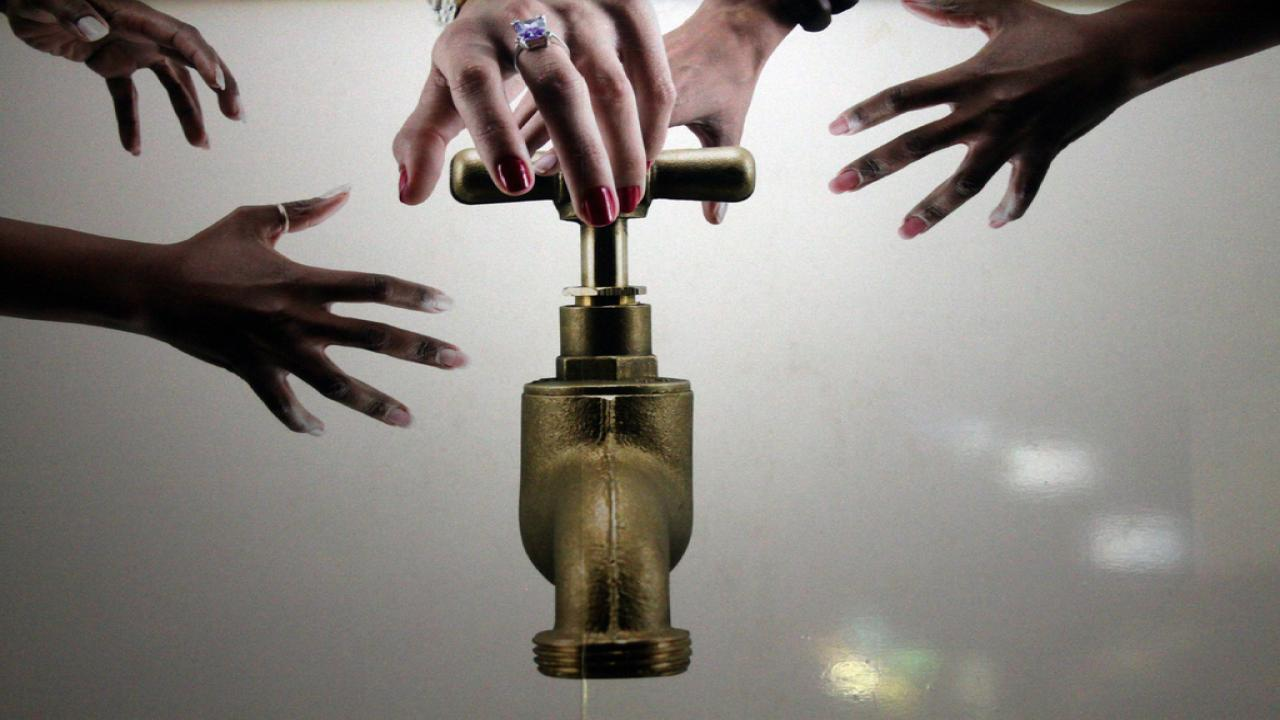ring: (512, 18, 570, 72), (275, 198, 290, 239)
